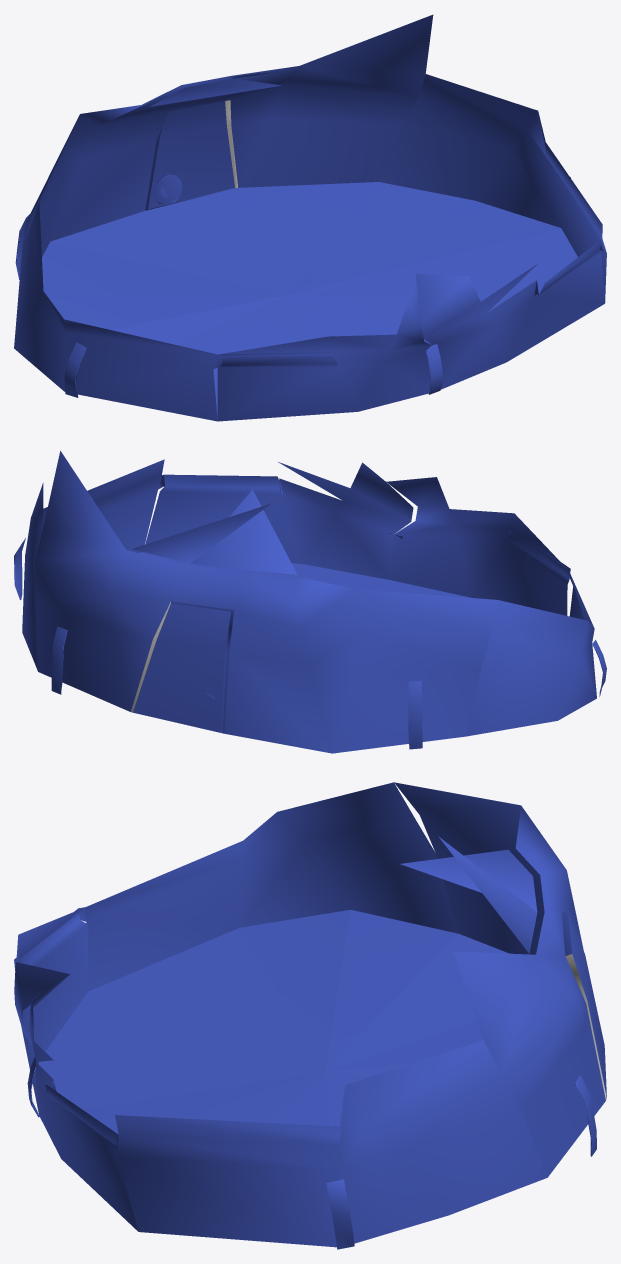
The model's file is hip.glb.
3 views of the same model, one above another, from view 1: azimuth 30°, elevation 25°; view 2: azimuth 150°, elevation 25°; view 3: azimuth 270°, elevation 25° (orthographic). The views are drawn at different scales.
Visible parts, largest first — view 1: trousers-blue_HIP; view 2: trousers-blue_HIP; view 3: trousers-blue_HIP.
Boxes of the visible parts, x1,y1,x2,y2 form: trousers-blue_HIP: (14, 14, 606, 421); trousers-blue_HIP: (14, 451, 606, 753); trousers-blue_HIP: (14, 782, 606, 1249).
Bounding box in the file's own units: 0.4339 × 0.1598 × 0.3257.
Materials: 1 (1 with a texture image).
